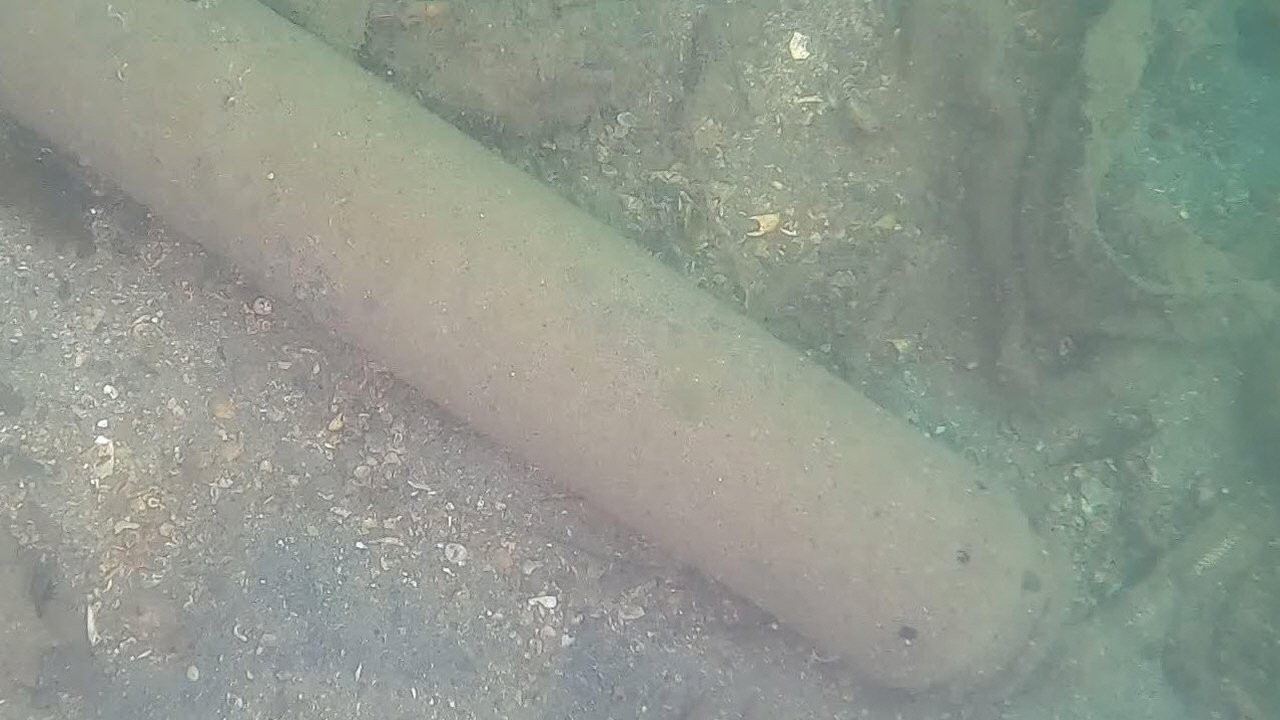eel fish trap: (0, 0, 1065, 704)
